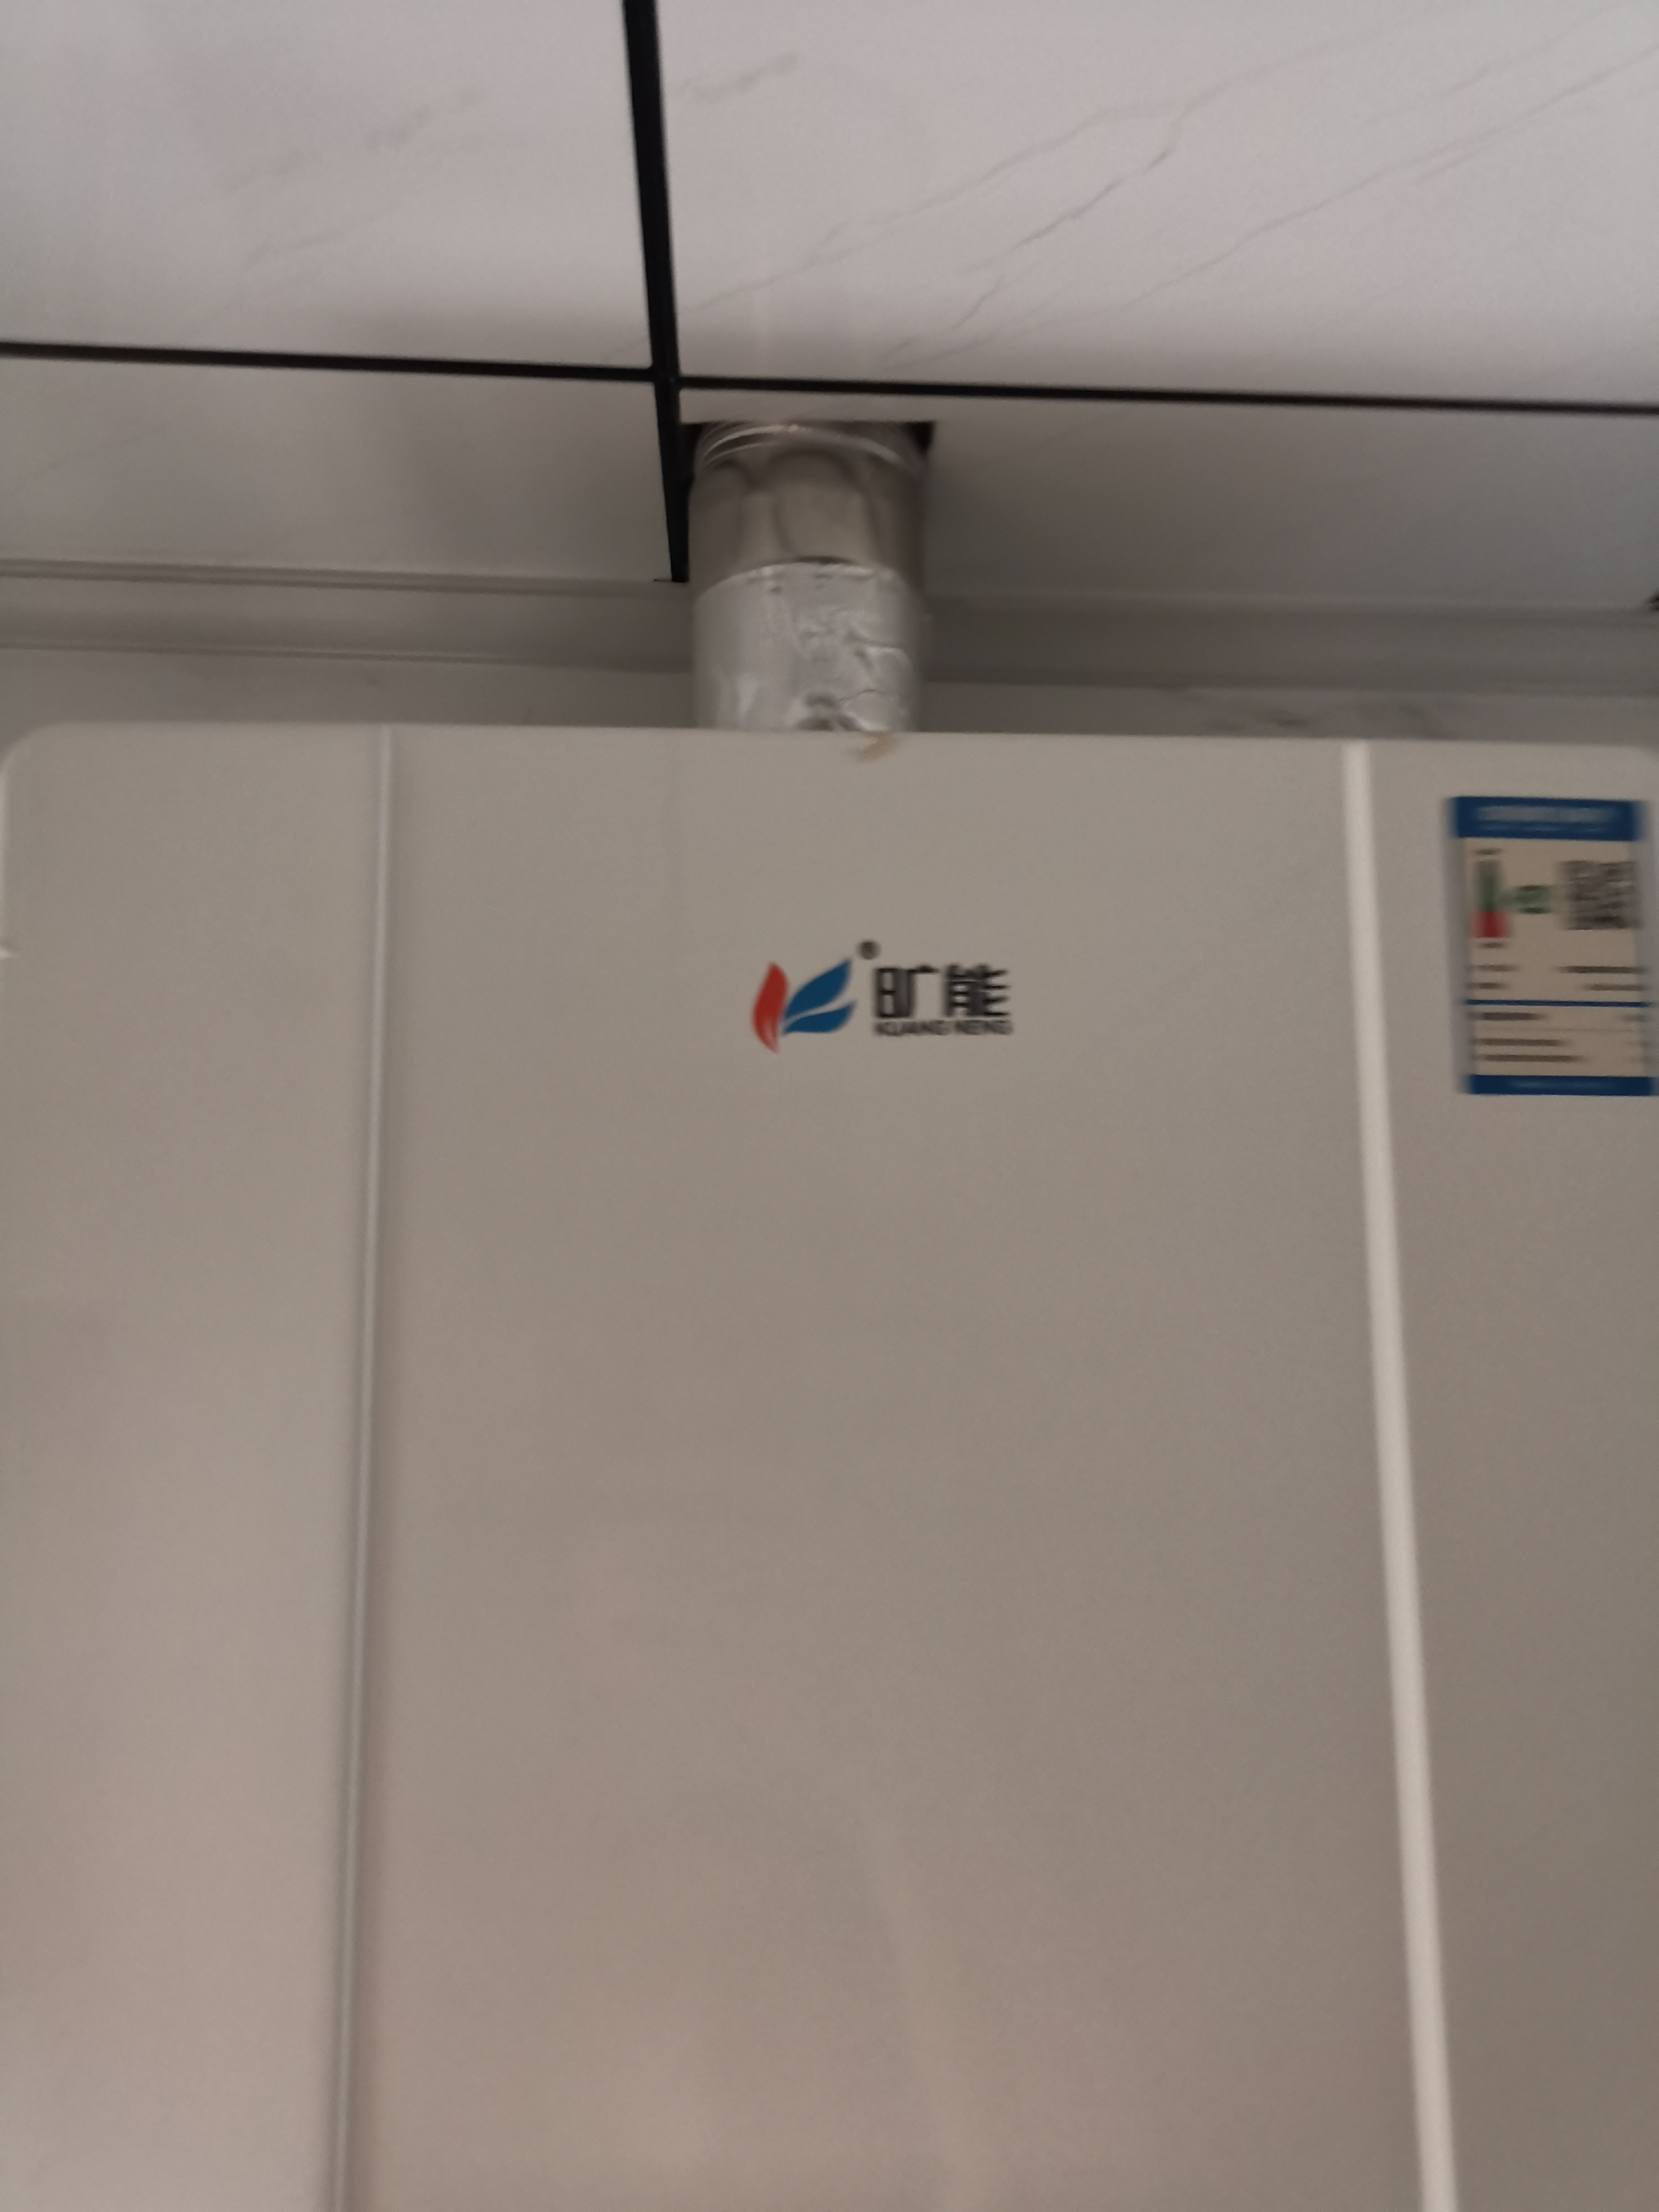loudou: (725, 927, 1077, 1069)
